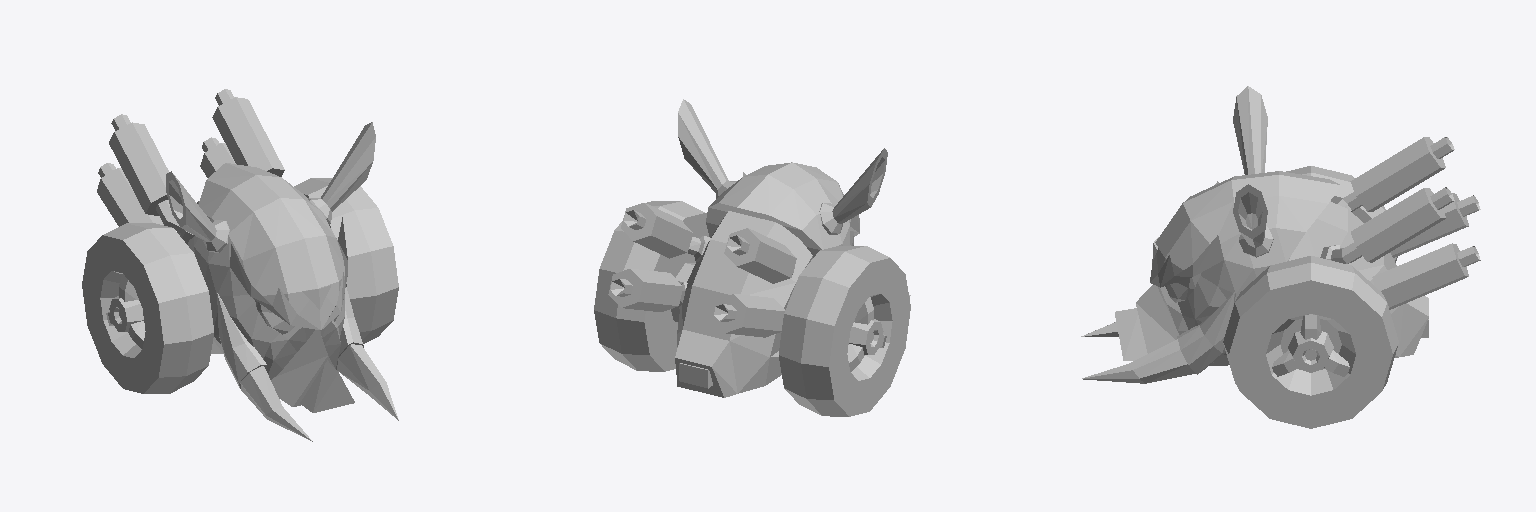
File: Crash Roader.obj
The picture shows the model from 3 angles: view 1: azimuth 30°, elevation 25°; view 2: azimuth 150°, elevation 25°; view 3: azimuth 270°, elevation 25°; orthographic projection.
Parts seen in each view (by area): view 1: EM020_Mesh; view 2: EM020_Mesh; view 3: EM020_Mesh.
Boxes of the visible parts, x1=… form: EM020_Mesh: x1=82, y1=89, x2=398, y2=441; EM020_Mesh: x1=594, y1=99, x2=910, y2=416; EM020_Mesh: x1=1081, y1=86, x2=1480, y2=428.
Size of the model in its own units: 1.6 by 1.51 by 2.27.